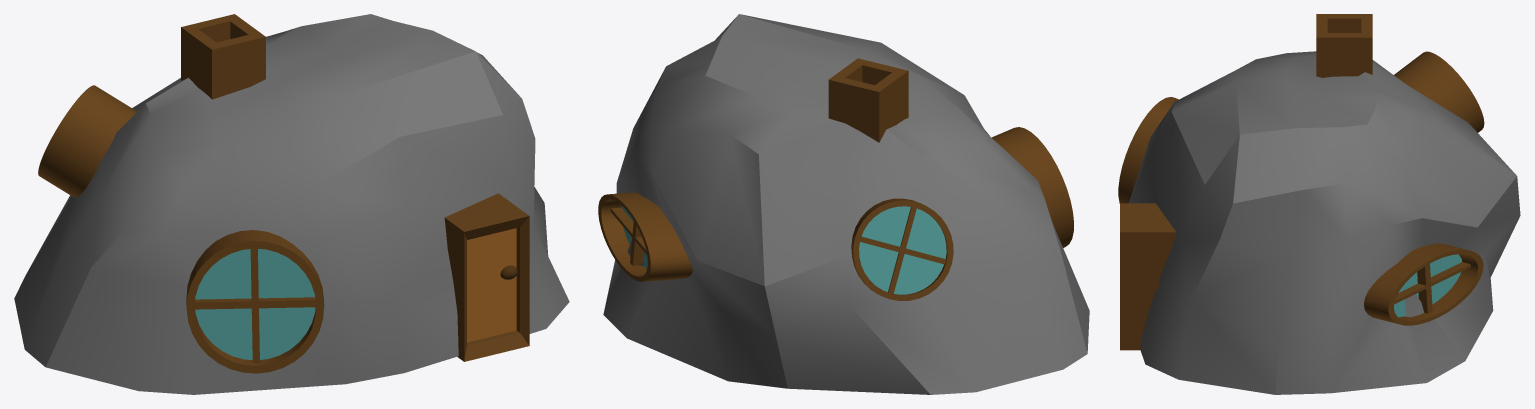
The model's file is rock_house_2_1.fbx.
3 renders of one model, left to right at view 1: azimuth 30°, elevation 25°; view 2: azimuth 150°, elevation 25°; view 3: azimuth 270°, elevation 25°, orthographic. The views are drawn at different scales.
Parts seen in each view (by area): view 1: Cube.002; view 2: Cube.002; view 3: Cube.002.
Part boxes in pixels (left/top/right/bottom): Cube.002: left=14, top=14, right=569, bottom=394; Cube.002: left=598, top=14, right=1089, bottom=394; Cube.002: left=1118, top=14, right=1520, bottom=394.
Bounding box in the file's own units: 513 × 280 × 400.
